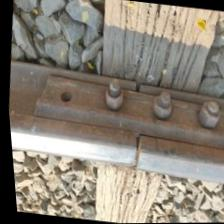person: (99, 120, 168, 184), (121, 72, 152, 101)
